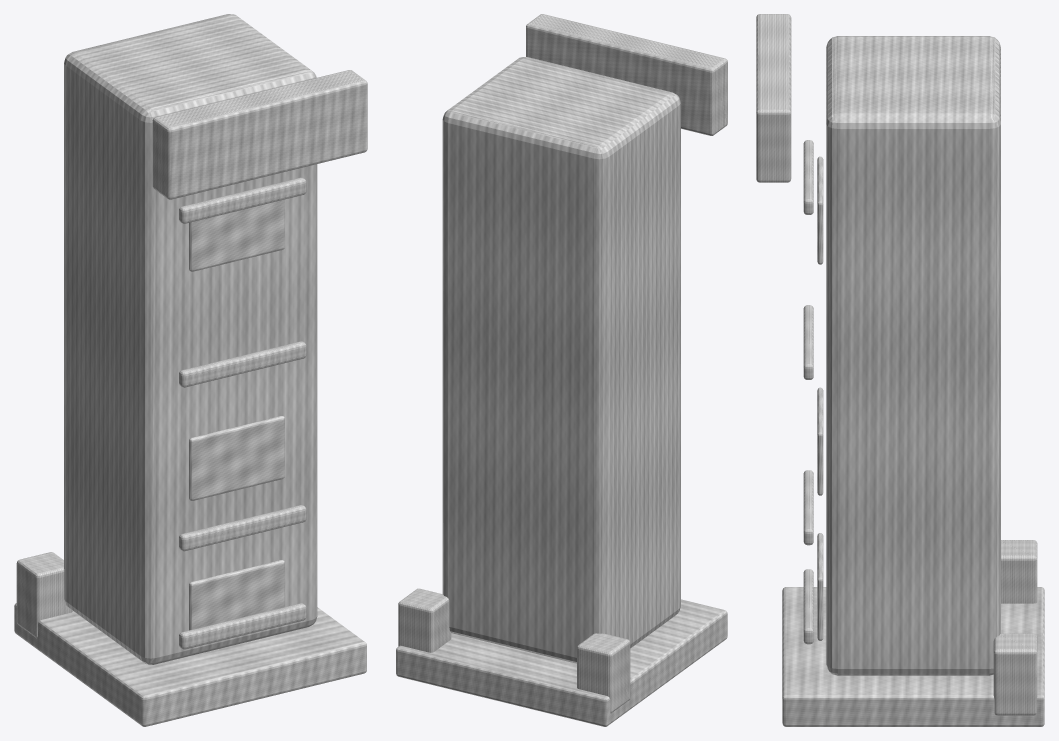
Rendered from conveyor_lift_variant_d.glb.
3 views of the same model, side by side, from view 1: azimuth 30°, elevation 25°; view 2: azimuth 150°, elevation 25°; view 3: azimuth 270°, elevation 25° (orthographic). The views are drawn at different scales.
Visible parts, largest first — view 1: Lift tower.003, Foundation.003, Upper belt mouth.003, Lift service window.010, Lift service window.011, Lift service window.009, Service foot.006, Belt cleat.014, Belt cleat.015, Belt cleat, Belt cleat.013; view 2: Lift tower.003, Foundation.003, Upper belt mouth.003, Service foot.006, Service foot.007; view 3: Lift tower.003, Foundation.003, Upper belt mouth.003, Service foot.007, Service foot.006, Belt cleat.013, Belt cleat.014, Belt cleat.015, Belt cleat, Lift service window.011, Lift service window.010, Lift service window.009.
Boxes of the visible parts, box(x1,y1,x2,y2) form: Lift tower.003: box(64, 14, 317, 664); Foundation.003: box(14, 603, 366, 726); Upper belt mouth.003: box(152, 70, 367, 199); Lift service window.010: box(189, 416, 284, 500); Lift service window.011: box(189, 199, 284, 271); Lift service window.009: box(189, 560, 284, 630); Service foot.006: box(16, 552, 73, 638); Belt cleat.014: box(179, 505, 306, 551); Belt cleat.015: box(179, 341, 306, 387); Belt cleat: box(179, 177, 306, 223); Belt cleat.013: box(179, 603, 306, 649); Lift tower.003: box(442, 57, 680, 663); Foundation.003: box(396, 599, 727, 726); Upper belt mouth.003: box(526, 14, 727, 135); Service foot.006: box(577, 633, 630, 713); Service foot.007: box(398, 588, 451, 652); Lift tower.003: box(826, 36, 1000, 675); Foundation.003: box(782, 587, 1044, 726); Upper belt mouth.003: box(756, 14, 791, 182); Service foot.007: box(993, 633, 1037, 715); Service foot.006: box(1001, 540, 1037, 603); Belt cleat.013: box(803, 569, 813, 644); Belt cleat.014: box(803, 470, 813, 545); Belt cleat.015: box(803, 305, 813, 379); Belt cleat: box(803, 140, 813, 214); Lift service window.011: box(817, 156, 823, 264); Lift service window.010: box(817, 387, 823, 495); Lift service window.009: box(817, 533, 823, 640).
Size of what is drawn, in the model's own units: 1.82 by 4.62 by 1.98.
5 materials, 5 textured.
